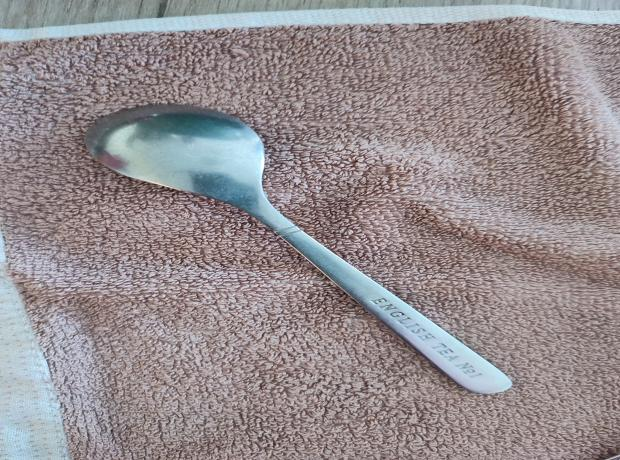metal: (81, 104, 519, 396)
